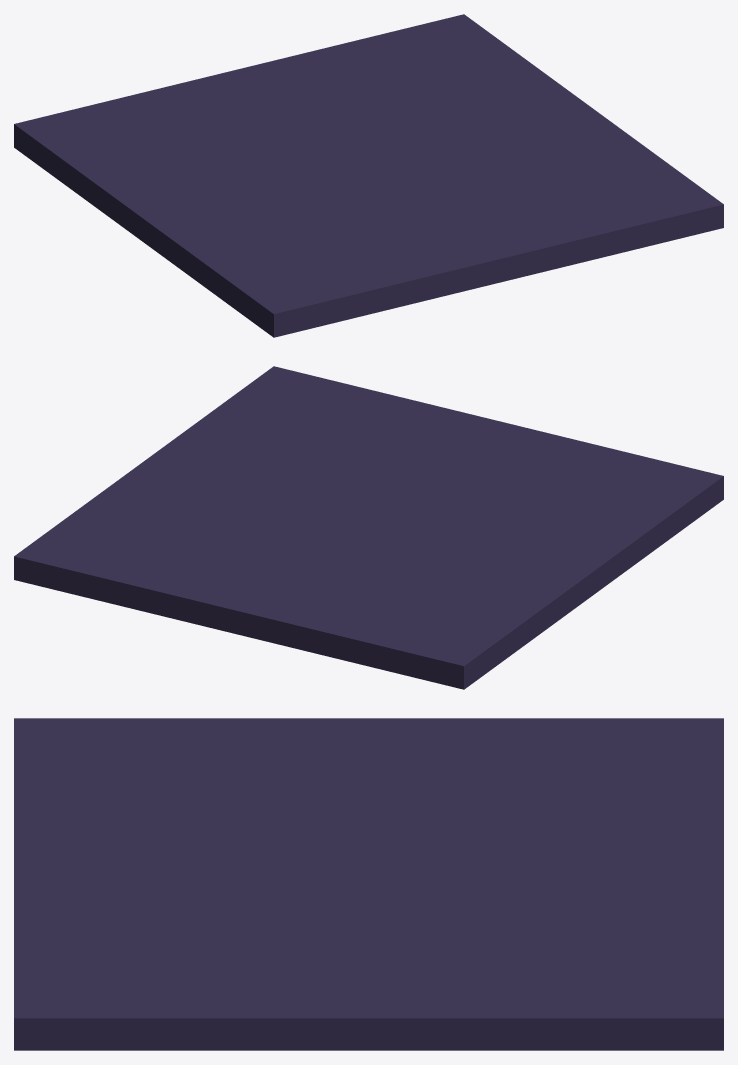
File: Ceiling_Light_Vertical.fbx
3 views of the same model, one above another, from view 1: azimuth 30°, elevation 25°; view 2: azimuth 150°, elevation 25°; view 3: azimuth 270°, elevation 25° (orthographic). The views are drawn at different scales.
Parts seen in each view (by area): view 1: Ceiling_Tile_Strip_Light_Vertical; view 2: Ceiling_Tile_Strip_Light_Vertical; view 3: Ceiling_Tile_Strip_Light_Vertical.
Boxes of the visible parts, <box> form: Ceiling_Tile_Strip_Light_Vertical: <box>14,14,723,337</box>; Ceiling_Tile_Strip_Light_Vertical: <box>14,366,723,689</box>; Ceiling_Tile_Strip_Light_Vertical: <box>14,718,723,1050</box>.
Size of the model in its own units: 2 by 0.124 by 2.
